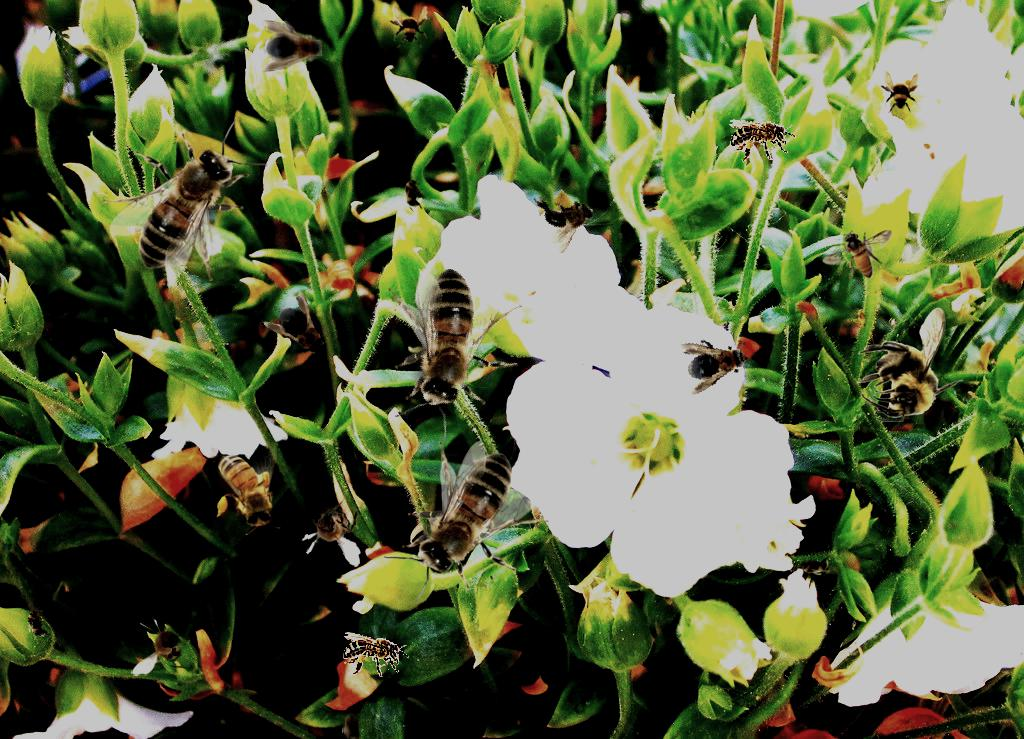Bee: (338, 234, 563, 458), (383, 441, 550, 603), (101, 119, 268, 281), (857, 307, 964, 422), (260, 286, 346, 372), (213, 442, 281, 535), (530, 176, 605, 256), (676, 328, 756, 396), (298, 491, 367, 567), (131, 615, 201, 676), (727, 112, 799, 165), (822, 229, 893, 279), (260, 20, 328, 72), (343, 632, 409, 677), (385, 3, 431, 49), (877, 70, 921, 114), (20, 600, 54, 646), (402, 173, 424, 213), (794, 554, 834, 576), (341, 706, 363, 739)
